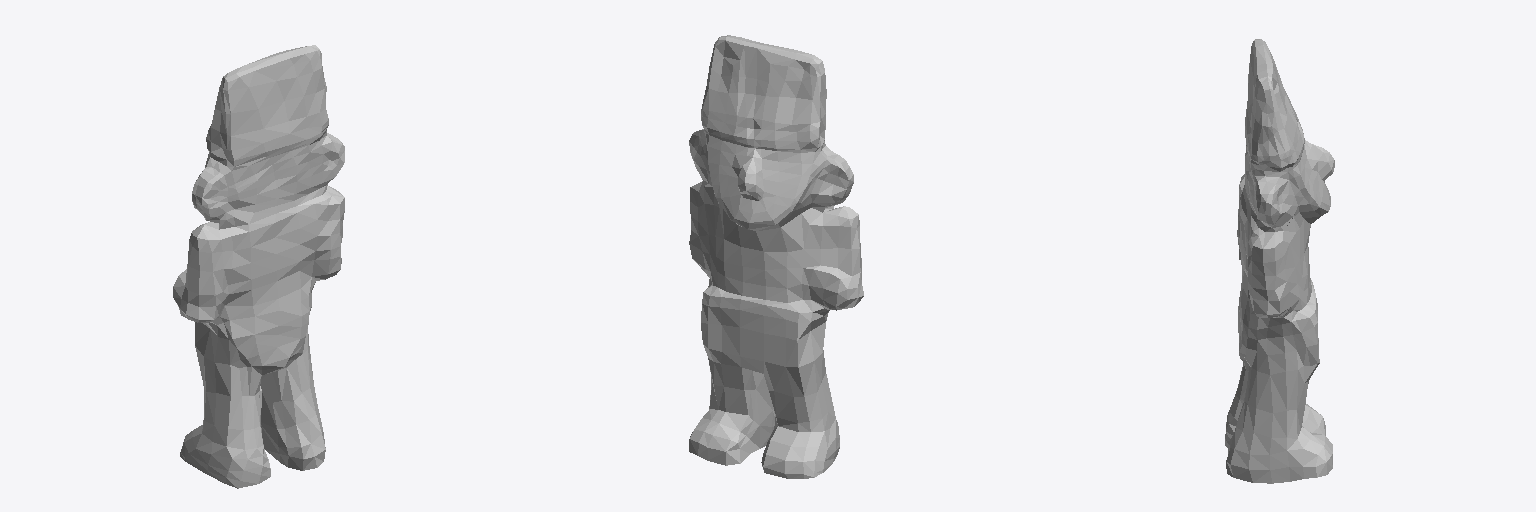
Rendered from Huaco1.obj.
3 views of the same model, side by side, from view 1: azimuth 30°, elevation 25°; view 2: azimuth 150°, elevation 25°; view 3: azimuth 270°, elevation 25° (orthographic).
Parts seen in each view (by area): view 1: Box002_Mesh; view 2: Box002_Mesh; view 3: Box002_Mesh.
Boxes of the visible parts, box(x1,y1,x2,y2) form: Box002_Mesh: box(173, 45, 344, 488); Box002_Mesh: box(689, 35, 863, 478); Box002_Mesh: box(1225, 39, 1334, 483).
Bounding box in the file's own units: 2.89 × 6.74 × 1.65.